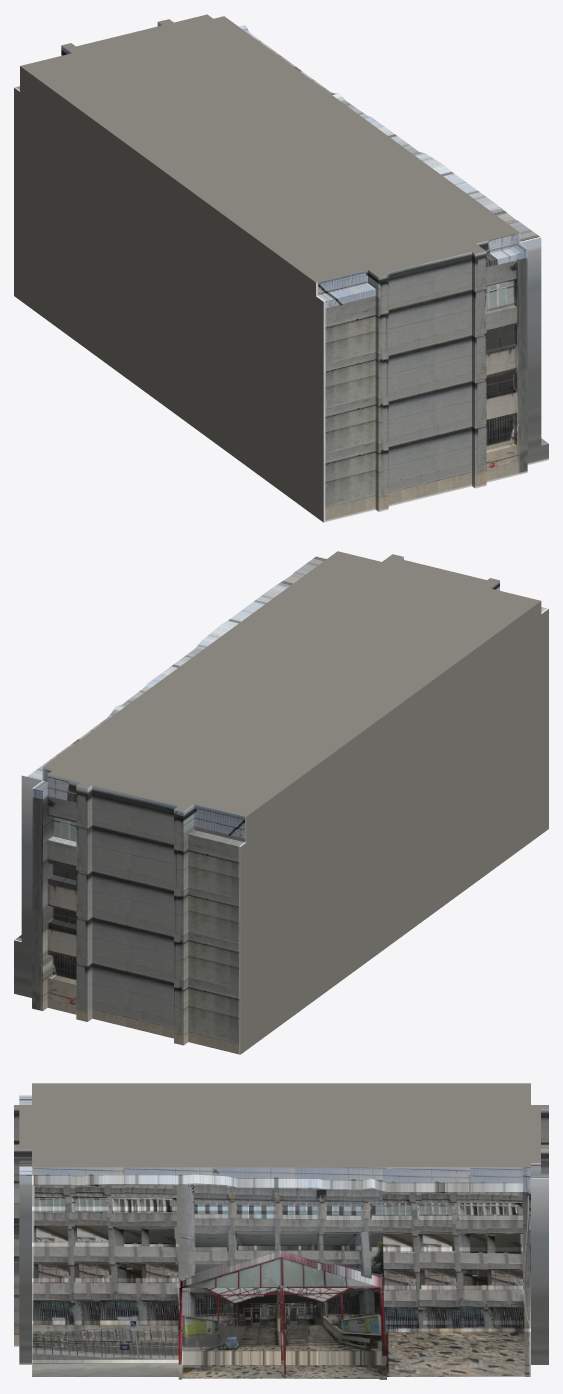
File: qixiu.glb
3 renders of one model, top to bottom at view 1: azimuth 30°, elevation 25°; view 2: azimuth 150°, elevation 25°; view 3: azimuth 270°, elevation 25°, orthographic. The views are drawn at different scales.
Visible parts, largest first — view 1: 體育; view 2: 體育; view 3: 體育.
Boxes of the visible parts, x1,y1,x2,y2 form: 體育: (14,14,548,522); 體育: (14,551,548,1054); 體育: (14,1083,548,1379).
Size of the model in its own units: 0.3286 by 0.3072 by 0.7539.
2 materials, 1 textured.
